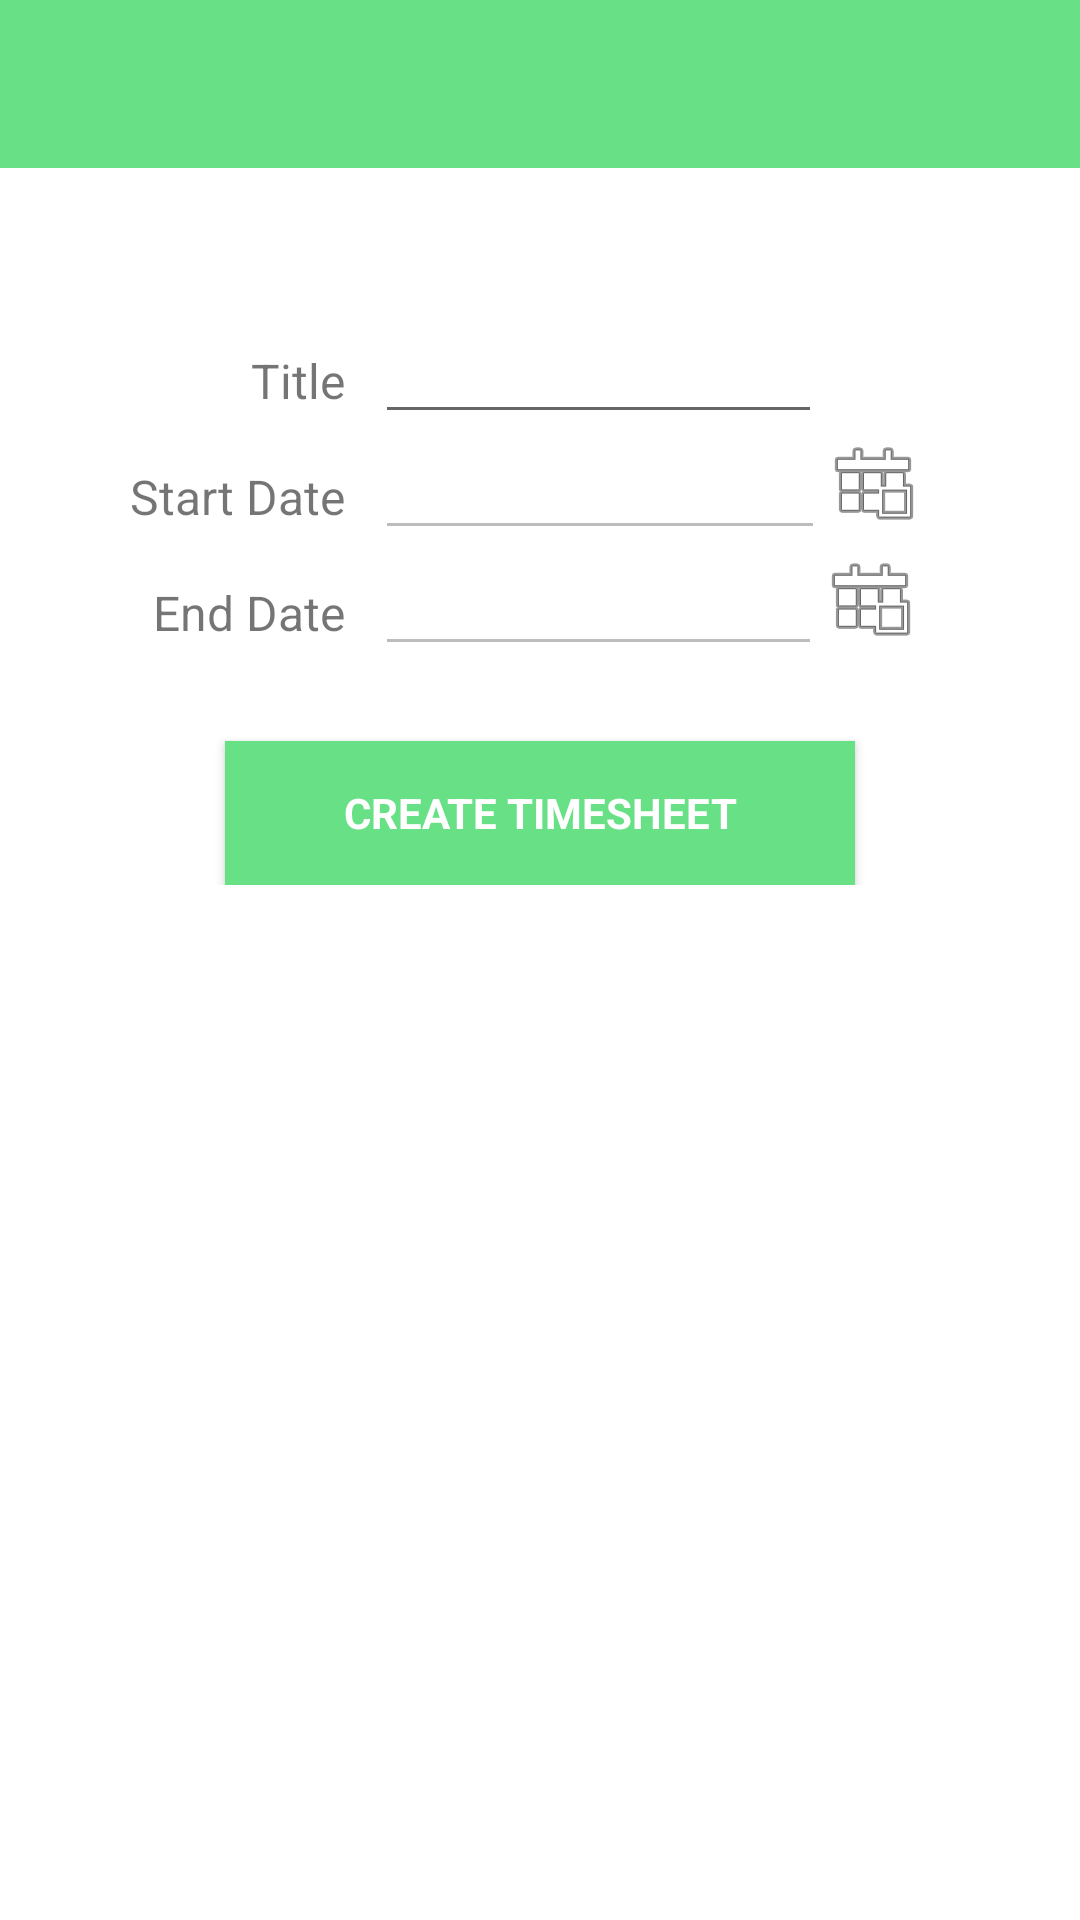

Point at icon controls on the screen. Image size 1080x1920, points as (x,y).
today: (874,483), (871,599)
